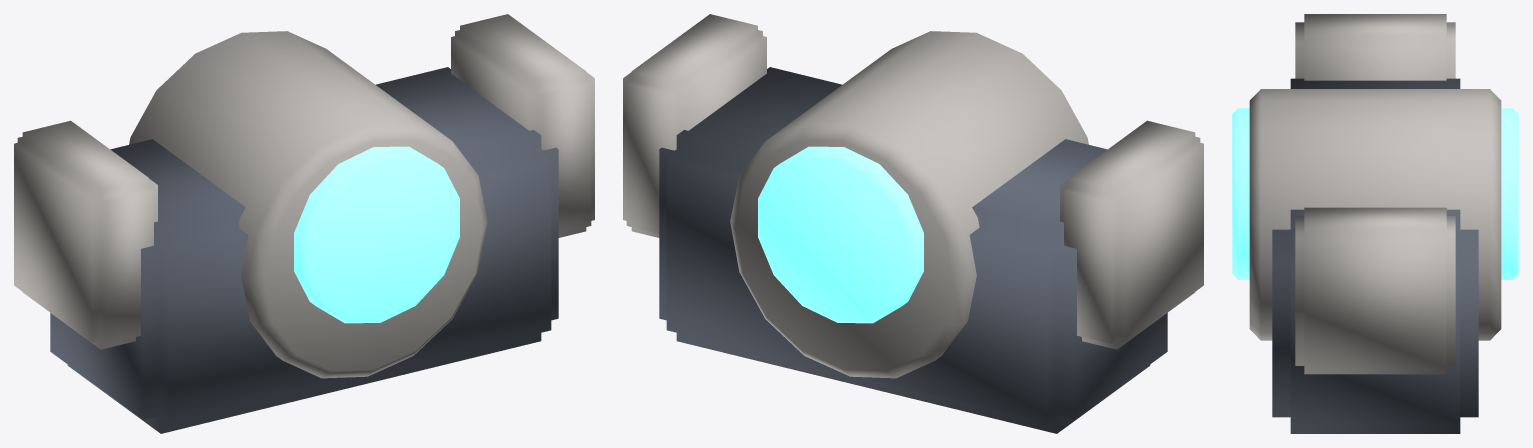
The model's file is magnet.glb.
The picture shows the model from 3 angles, left to right: view 1: azimuth 30°, elevation 25°; view 2: azimuth 150°, elevation 25°; view 3: azimuth 270°, elevation 25°; orthographic projection. The views are drawn at different scales.
Parts seen in each view (by area): view 1: magnet; view 2: magnet; view 3: magnet.
Part boxes in pixels (box(x1,y1,x2,y2)): magnet: box(14, 14, 594, 433); magnet: box(623, 14, 1203, 433); magnet: box(1232, 14, 1518, 433).
Size of the model in its own units: 0.46 by 0.24 by 0.25.
